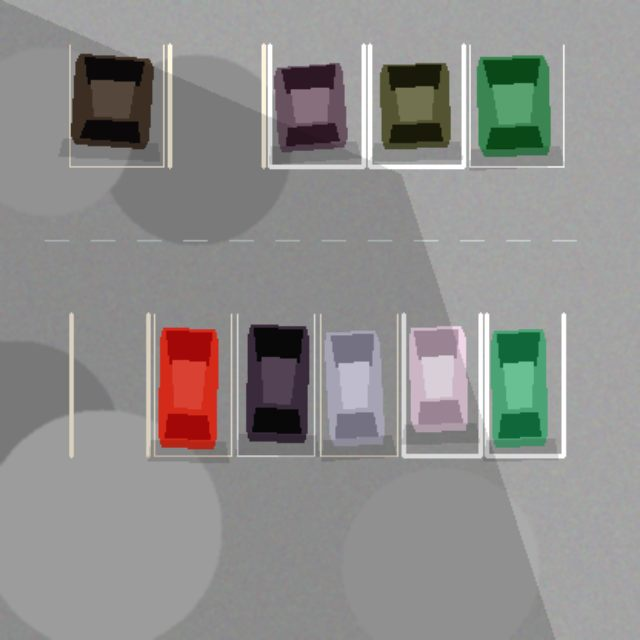space-empty: (169, 45, 263, 166), (71, 314, 148, 455)
space-occupied: (69, 45, 163, 166), (269, 45, 363, 166), (369, 45, 463, 166), (469, 45, 563, 166), (154, 314, 231, 455), (237, 314, 314, 455), (320, 314, 397, 455), (403, 314, 480, 455), (486, 314, 563, 455)
